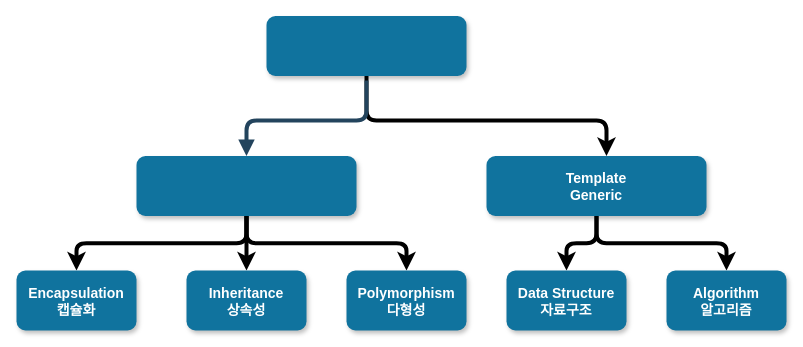
This 803x347 diagram has some shape labels left out. The shapes that lost their labels are listed below. From the top down, each one's centre as x and y in pixels, then its label:
At point 367,47: "객체지향 프로그래밍".
At point 247,187: "Class".
